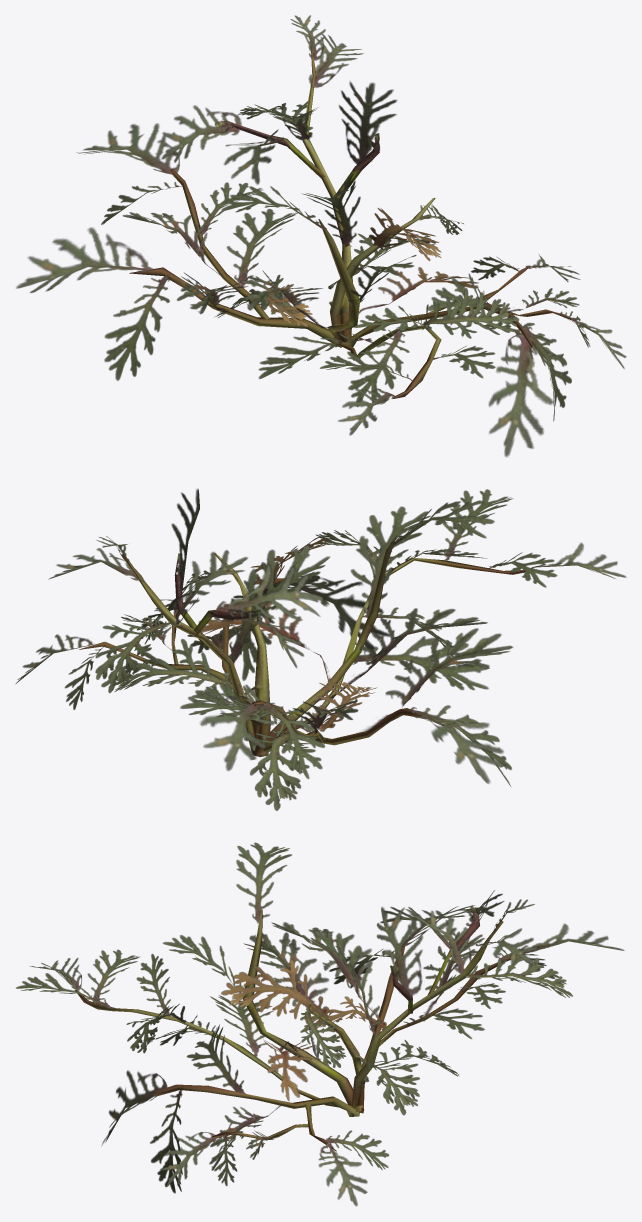
Rendered from nama_ursinia_e.glb.
3 renders of one model, top to bottom at view 1: azimuth 30°, elevation 25°; view 2: azimuth 150°, elevation 25°; view 3: azimuth 270°, elevation 25°, orthographic. The views are drawn at different scales.
Parts seen in each view (by area): view 1: nama_ursinia_e; view 2: nama_ursinia_e; view 3: nama_ursinia_e.
Boxes of the visible parts, left/top/right/bottom form: nama_ursinia_e: left=16, top=15, right=626, bottom=456; nama_ursinia_e: left=16, top=488, right=626, bottom=810; nama_ursinia_e: left=16, top=842, right=624, bottom=1206.
Bounding box in the file's own units: 0.3586 × 0.1933 × 0.409.
Materials: 1 (1 with a texture image).
